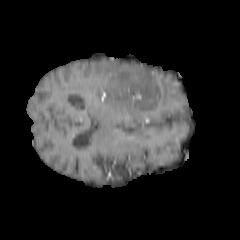glioma: (87, 69, 162, 120)
